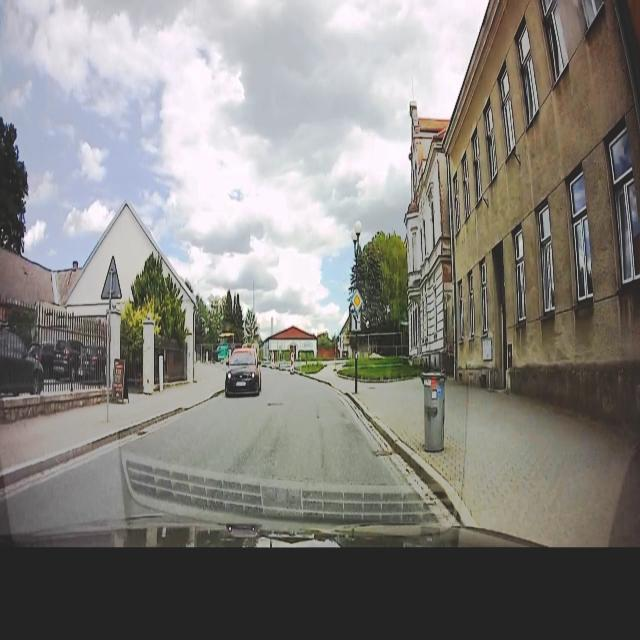Priority road: (349, 289, 363, 312)
